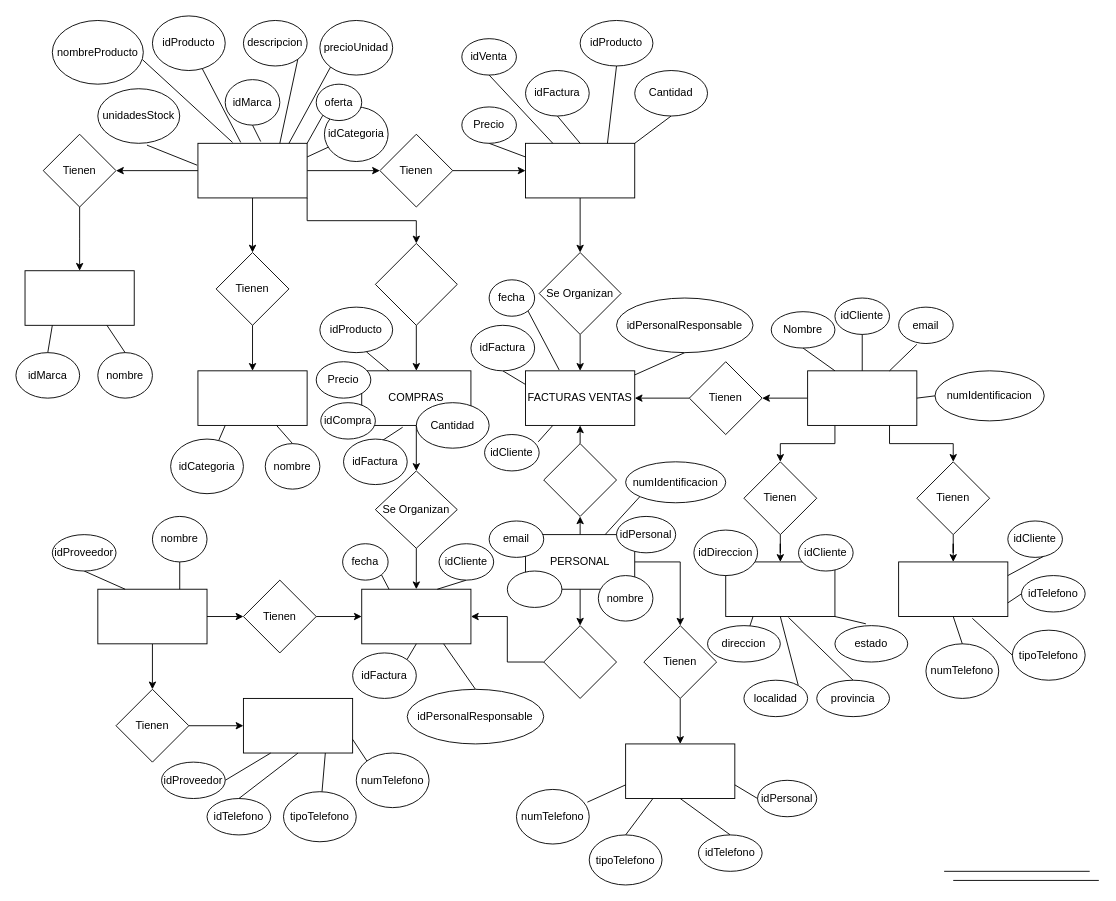
Image size: 1116x901. Some labels were removed from this diagram. Each missing label, with the box of its shape:
CATEGORIAS: (197, 370, 307, 425)
CLIENTES: (807, 370, 917, 425)
DIRECCIONES: (725, 561, 835, 617)
empleo: (506, 570, 562, 607)
FACTURAS COMPRAS: (361, 588, 471, 644)
MARCAS: (24, 270, 134, 325)
PRODUCTOS: (197, 142, 307, 198)
PROVEEDORES: (97, 588, 207, 644)
Realizan: (543, 625, 617, 698)
Se Adquieren: (374, 243, 457, 325)
Supervisan: (543, 443, 617, 516)
TELEFONOS CLIENTES: (898, 561, 1008, 617)
TELEFONOS PERSONAL: (625, 743, 735, 799)
TELEFONOS PROVEEDORES: (243, 698, 353, 753)
VENTAS: (525, 142, 635, 198)
